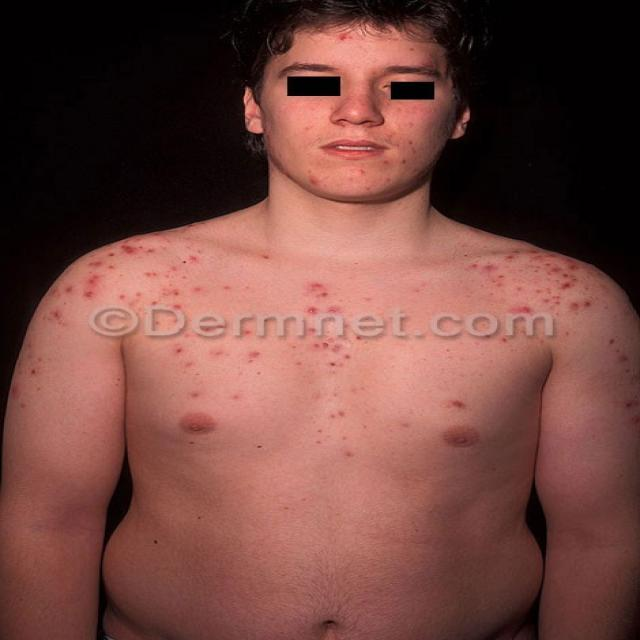acne: (178, 316, 295, 368), (290, 288, 368, 362), (142, 236, 208, 302), (72, 254, 126, 318), (524, 246, 592, 291), (469, 253, 516, 302)
